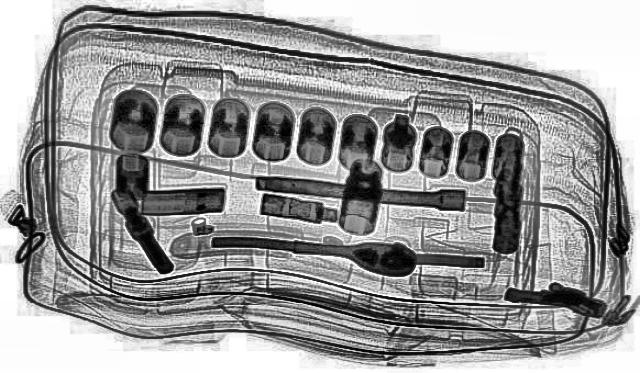Gun: (498, 275, 616, 319)
